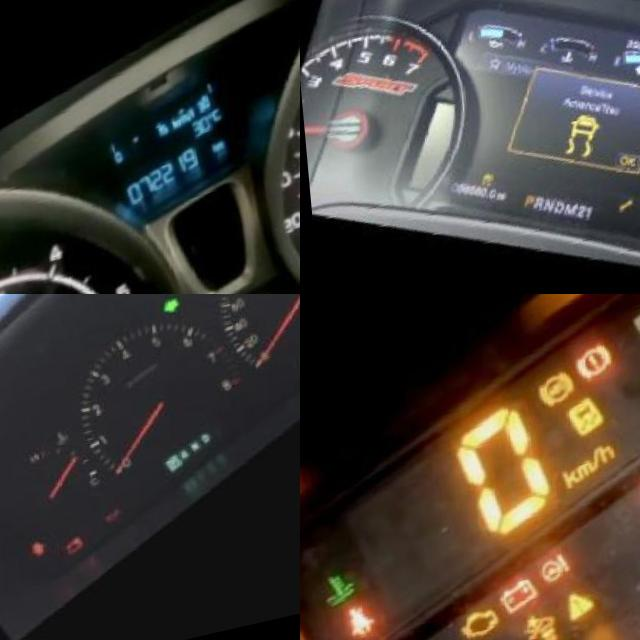High Engine Coolant Temperature: (301, 571, 347, 621), (35, 441, 57, 461), (550, 60, 573, 79)
Seat Belt: (323, 606, 363, 640)
